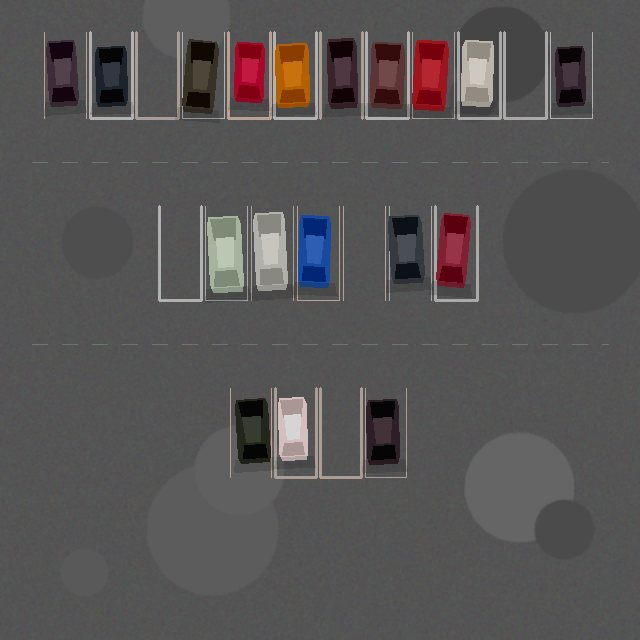space-empty: (159, 206, 201, 300), (343, 206, 385, 300), (320, 388, 361, 477), (136, 32, 178, 118), (504, 32, 546, 118)
space-occupied: (205, 206, 247, 300), (251, 206, 293, 300), (297, 206, 339, 300), (389, 206, 431, 300), (435, 206, 477, 300), (230, 388, 271, 477), (275, 388, 316, 477), (365, 388, 406, 477), (44, 32, 86, 118), (90, 32, 132, 118), (182, 32, 224, 118), (228, 32, 270, 118), (274, 32, 316, 118), (320, 32, 362, 118), (366, 32, 408, 118), (412, 32, 454, 118), (458, 32, 500, 118), (550, 32, 592, 118)
